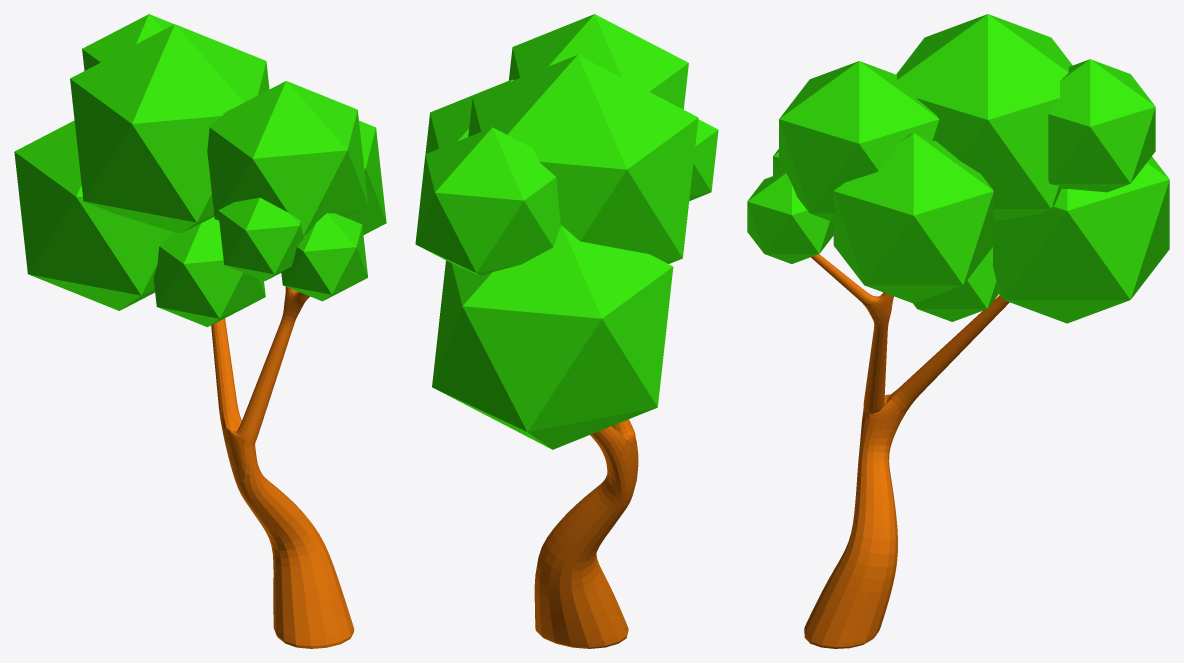
Rendered from tree type1 assests.fbx.
3 renders of one model, left to right at view 1: azimuth 30°, elevation 25°; view 2: azimuth 150°, elevation 25°; view 3: azimuth 270°, elevation 25°, orthographic. The views are drawn at different scales.
Visible parts, largest first — view 1: Icosphere.009, Icosphere.010, Cube.031, Icosphere.001, Icosphere.011, Icosphere.013, Icosphere, Icosphere.002, Icosphere.012; view 2: Icosphere.001, Icosphere.009, Icosphere.012, Cube.031, Icosphere.010, Icosphere.002, Icosphere.013; view 3: Icosphere.009, Icosphere.002, Icosphere.001, Cube.031, Icosphere.010, Icosphere.012, Icosphere, Icosphere.011.
Boxes of the visible parts, x1=… form: Icosphere.009: x1=70, y1=24, x2=269, y2=232; Icosphere.010: x1=207, y1=81, x2=368, y2=235; Cube.031: x1=211, y1=287, x2=354, y2=648; Icosphere.001: x1=14, y1=120, x2=173, y2=310; Icosphere.011: x1=153, y1=216, x2=265, y2=327; Icosphere.013: x1=218, y1=197, x2=304, y2=281; Icosphere: x1=281, y1=213, x2=367, y2=301; Icosphere.002: x1=345, y1=120, x2=386, y2=234; Icosphere.012: x1=82, y1=14, x2=174, y2=70; Icosphere.001: x1=432, y1=225, x2=673, y2=449; Icosphere.009: x1=468, y1=55, x2=698, y2=263; Icosphere.012: x1=415, y1=127, x2=560, y2=276; Cube.031: x1=534, y1=419, x2=638, y2=648; Icosphere.010: x1=509, y1=14, x2=688, y2=109; Icosphere.002: x1=425, y1=79, x2=513, y2=154; Icosphere.013: x1=689, y1=119, x2=718, y2=200; Icosphere.009: x1=896, y1=14, x2=1072, y2=220; Icosphere.002: x1=833, y1=133, x2=993, y2=303; Icosphere.001: x1=993, y1=156, x2=1169, y2=323; Cube.031: x1=804, y1=254, x2=1009, y2=648; Icosphere.010: x1=779, y1=61, x2=939, y2=221; Icosphere.012: x1=1048, y1=59, x2=1155, y2=192; Icosphere: x1=747, y1=172, x2=833, y2=263; Icosphere.011: x1=913, y1=247, x2=998, y2=321.
Bounding box in the file's own units: 544 × 1093 × 714.
